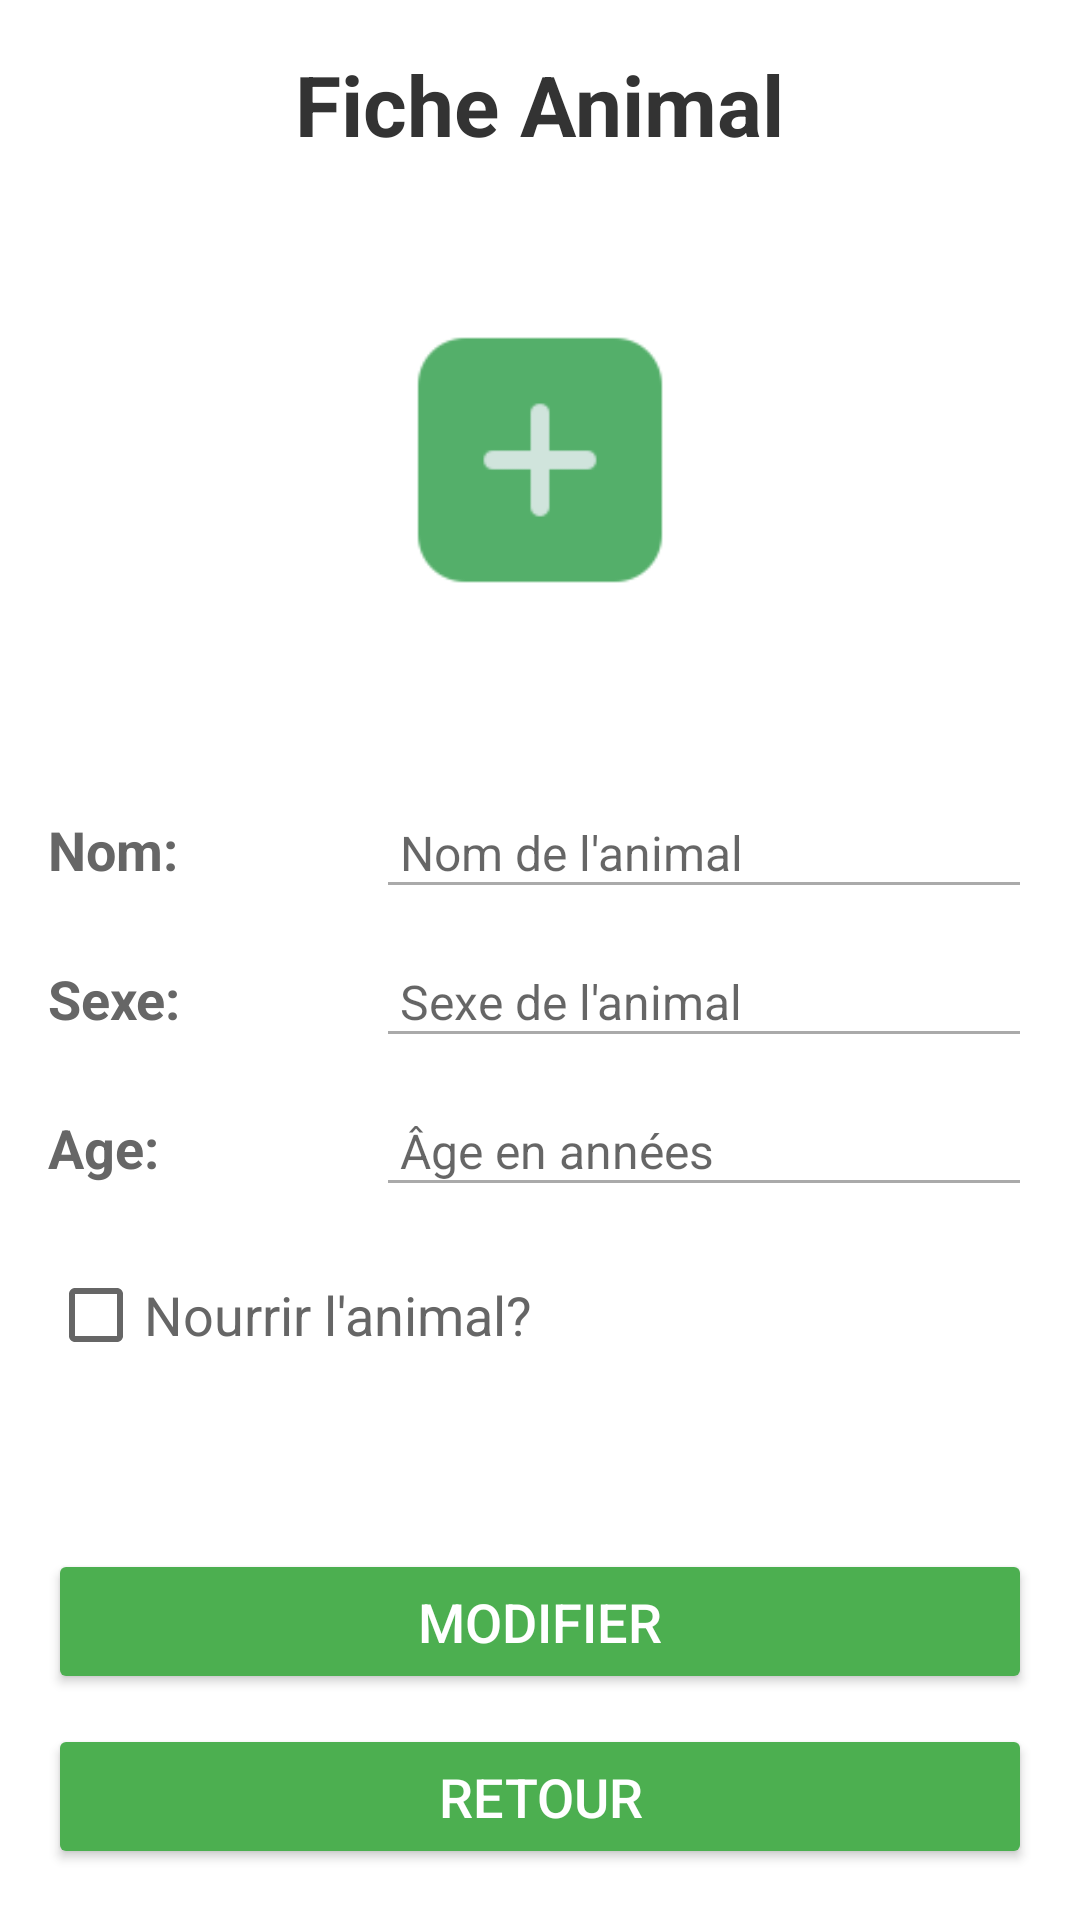

Screen size 1080px x 1920px. Icon name, then its box in pixels as [x1=x1, y1=y1, x2=x2, y2=y2]:
ajouter: [x1=417, y1=337, x2=663, y2=583]
